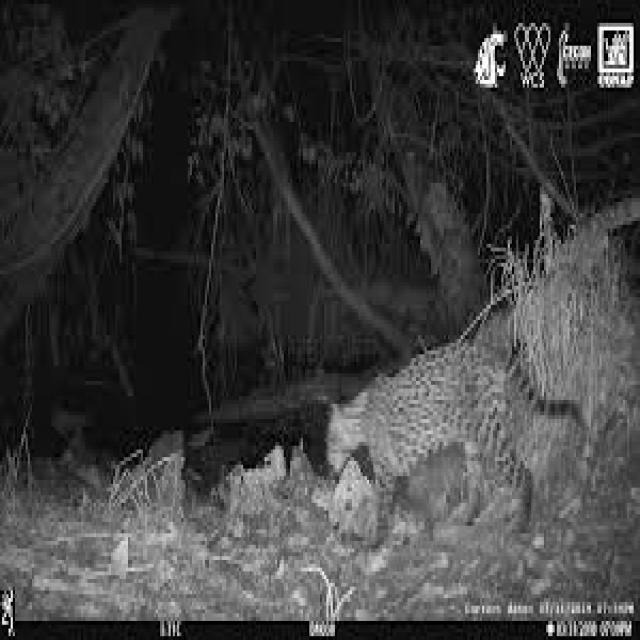Jaguar: (322, 339, 593, 530)
